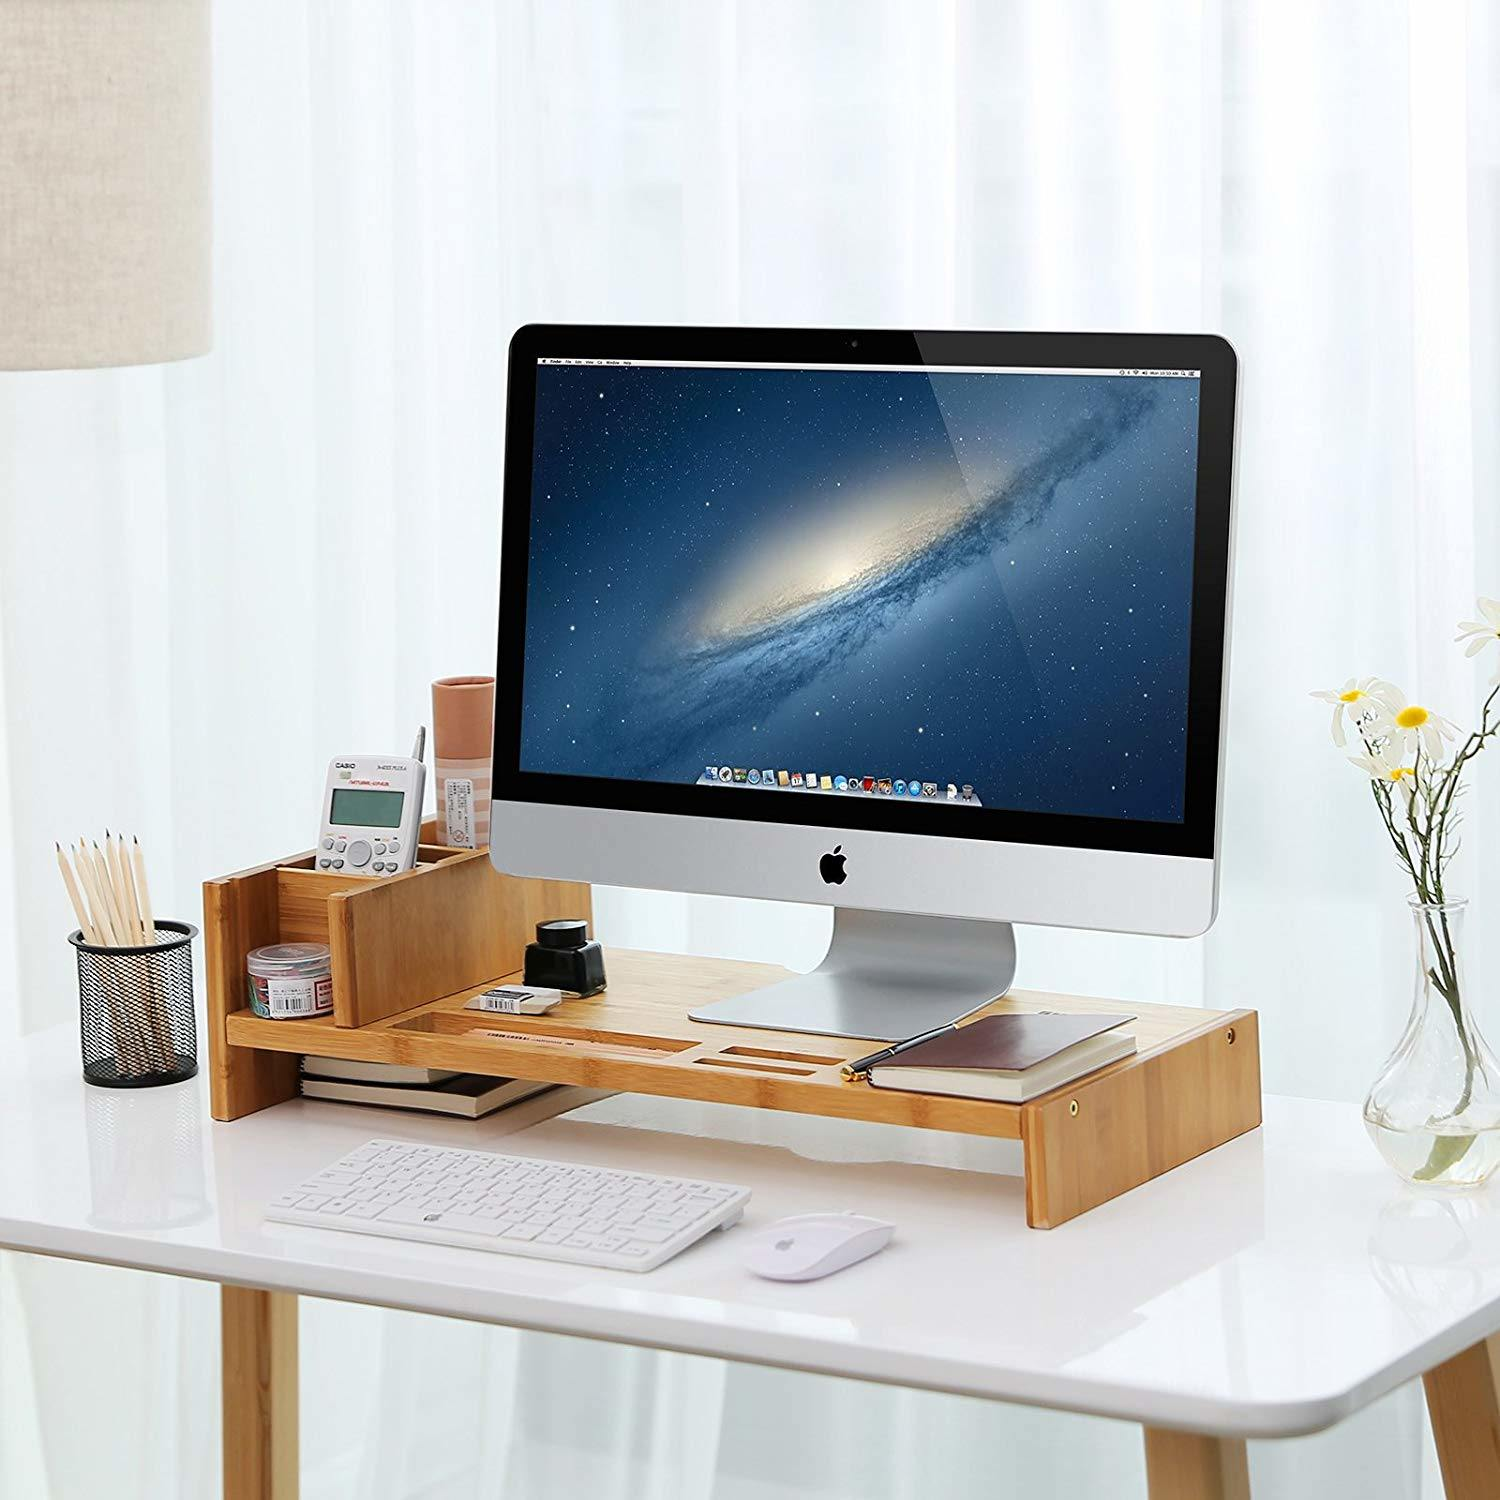keyboard: (240, 1103, 755, 1288)
monitor: (471, 279, 1268, 1045)
mouse: (745, 1185, 902, 1298)
